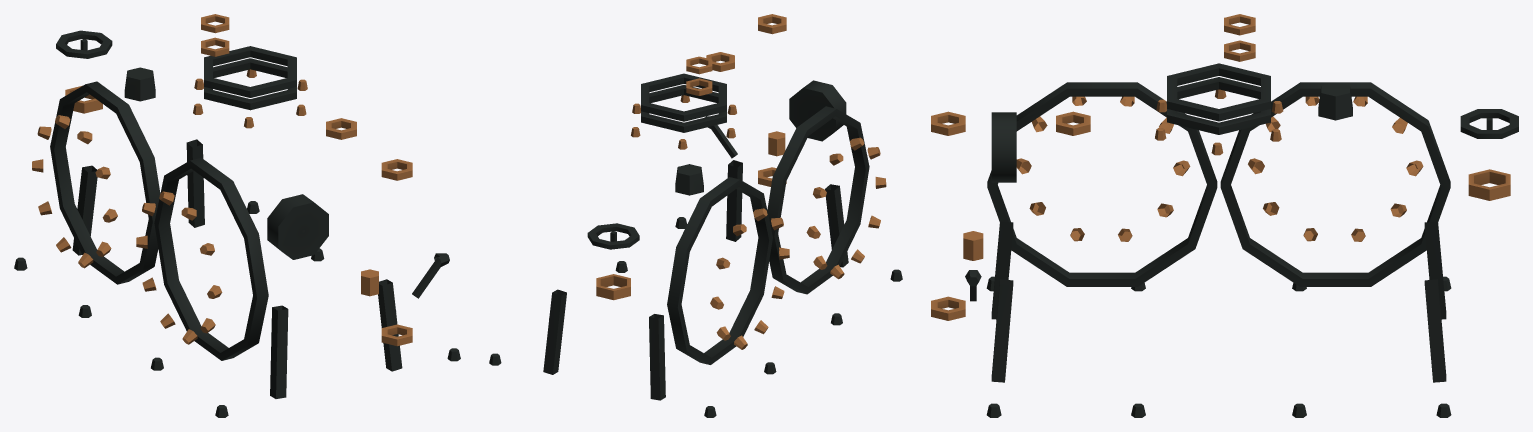
Rendered from lift_platform_detail1.glb.
3 views of the same model, side by side, from view 1: azimuth 30°, elevation 25°; view 2: azimuth 150°, elevation 25°; view 3: azimuth 270°, elevation 25° (orthographic). The views are drawn at different scales.
Parts seen in each view (by area): view 1: Detail1; view 2: Detail1; view 3: Detail1.
Part boxes in pixels (x1=…): Detail1: x1=14, y1=14, x2=460, y2=417; Detail1: x1=489, y1=14, x2=902, y2=417; Detail1: x1=931, y1=14, x2=1518, y2=417.
Bounding box in the file's own units: 3.76 × 4.28 × 7.06.
